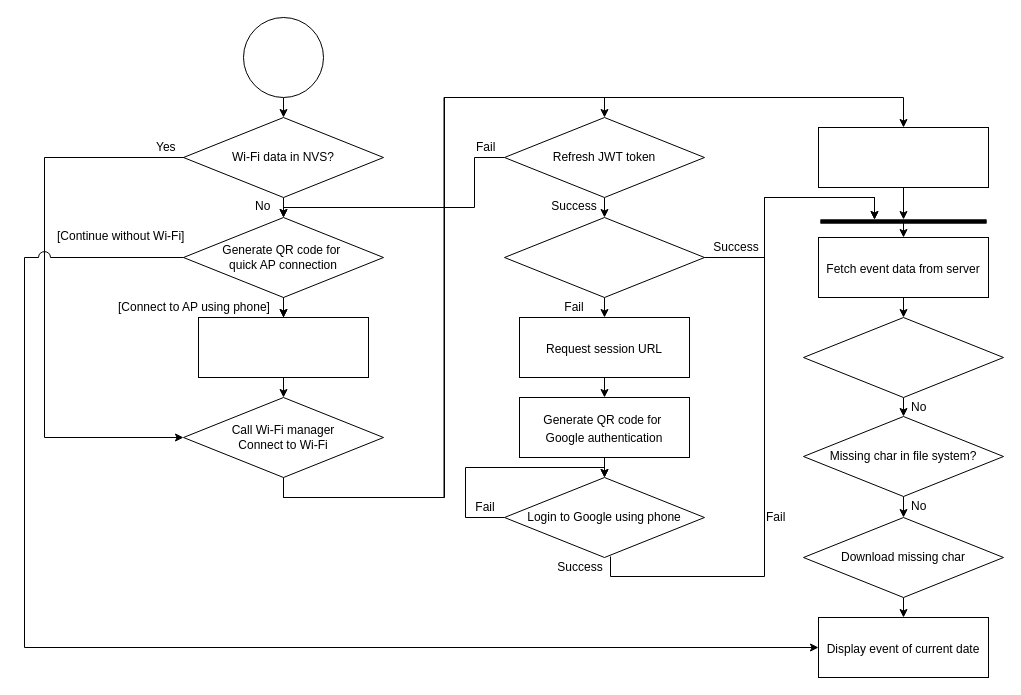
This 1021x695 diagram has some shape labels left out. The centre of each missing label's shape, as x and y in pixels:
"Check missing characters All required char in chche?" goes at point (903, 357).
"Configure Wi-Fi settings" goes at point (283, 347).
"Refresh Google session token" goes at point (604, 257).
"Request time data from NTP server" goes at point (903, 157).
"Turned On" goes at point (283, 57).
